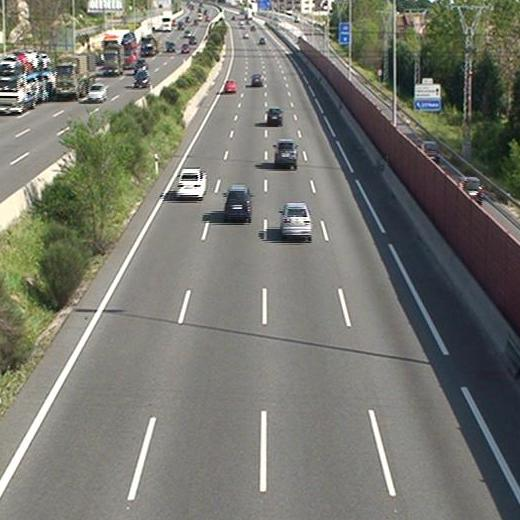car: (279, 203, 311, 236), (224, 186, 252, 219), (177, 168, 206, 196), (274, 140, 297, 166), (267, 107, 282, 124), (224, 79, 237, 92), (250, 74, 262, 85)
